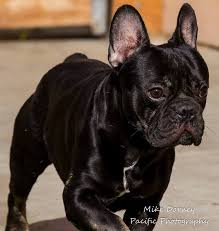Bulldog: (9, 3, 219, 231)
